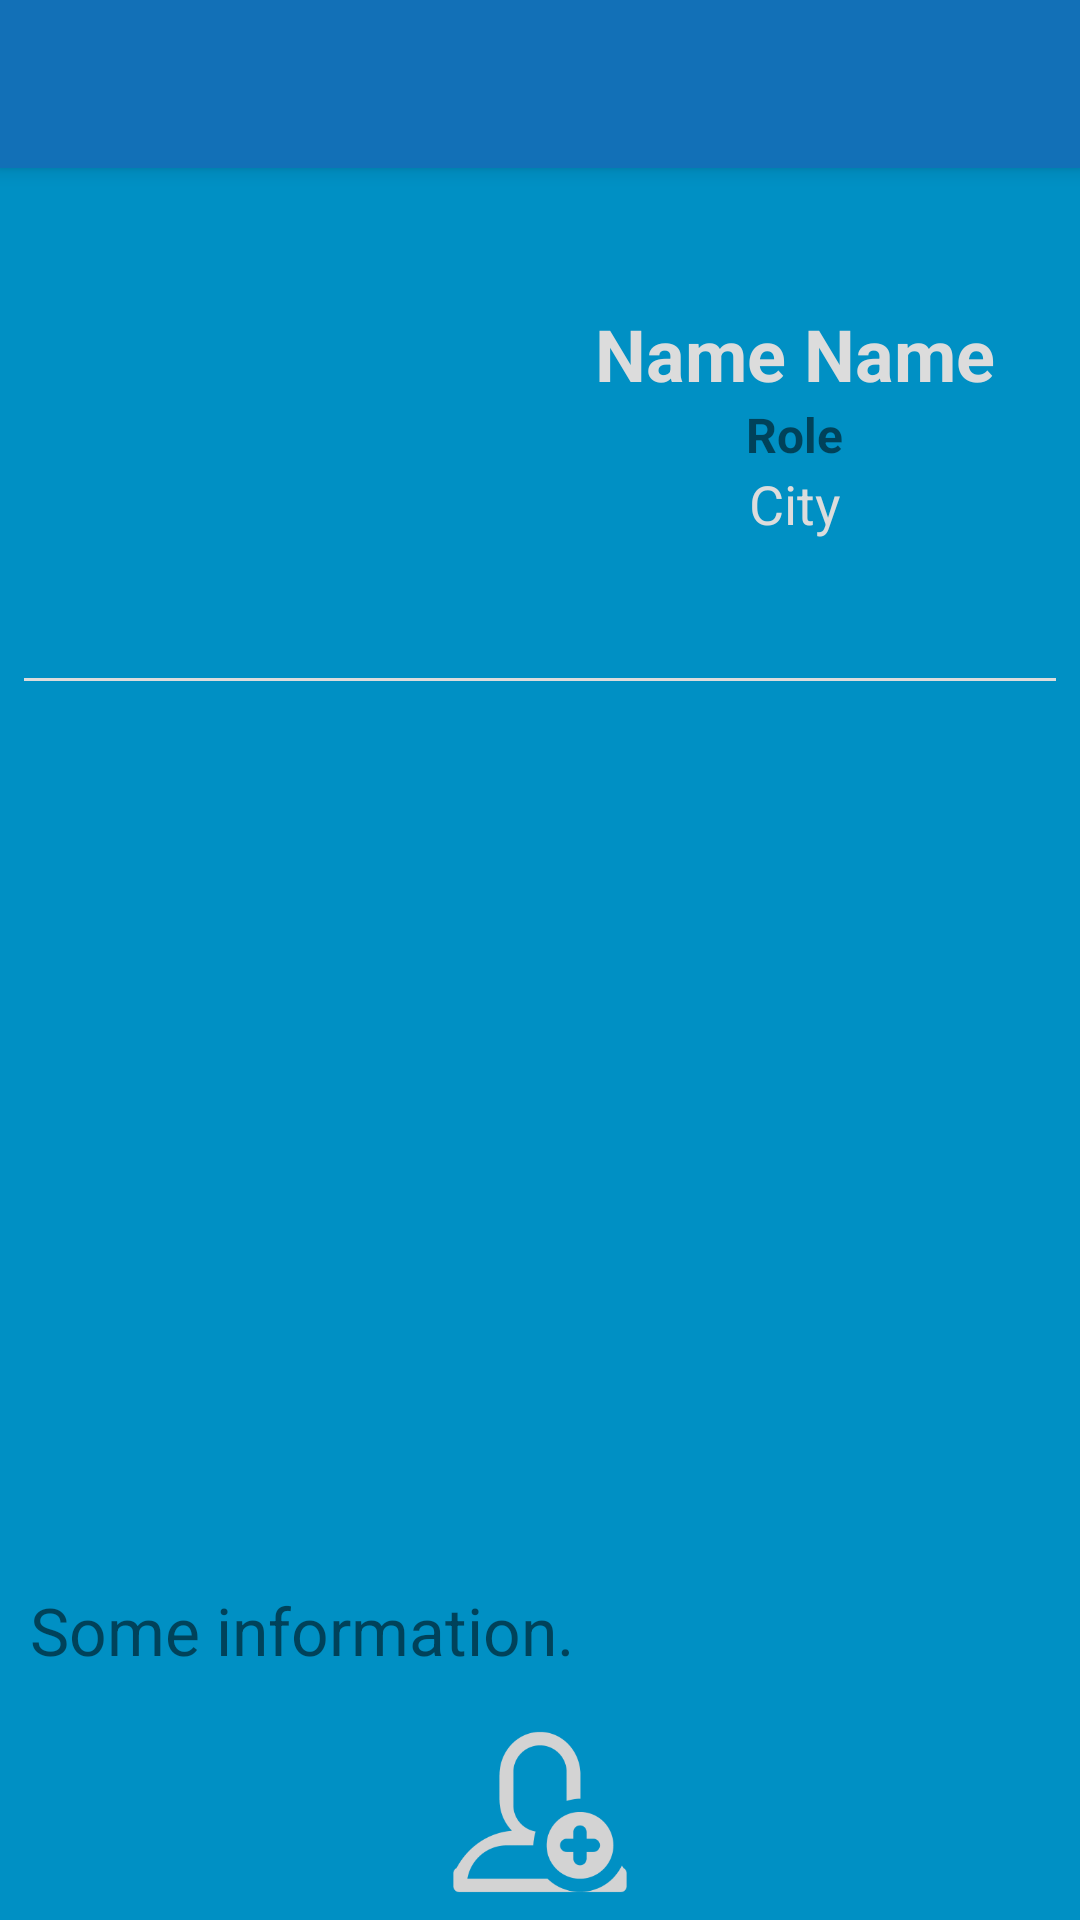

Icon click points for this 1080 × 1920 phone screenshot, format (x=x, y=y):
Add to address book button: (x=540, y=1812)
